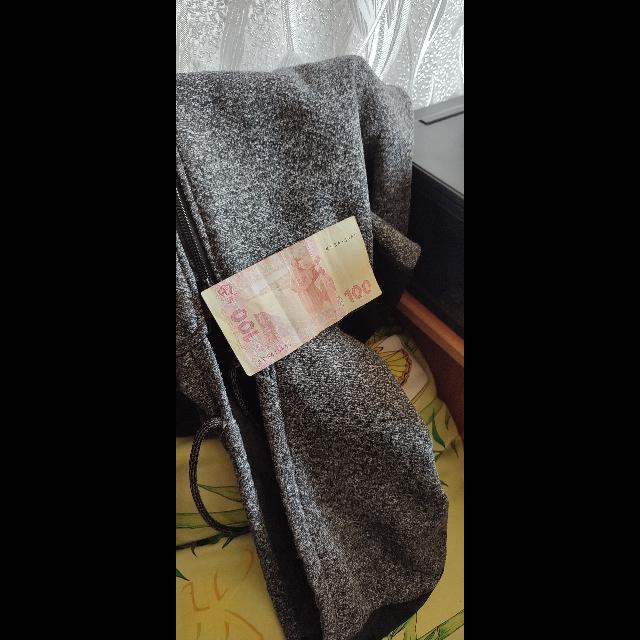100uah: (208, 218, 378, 377)
